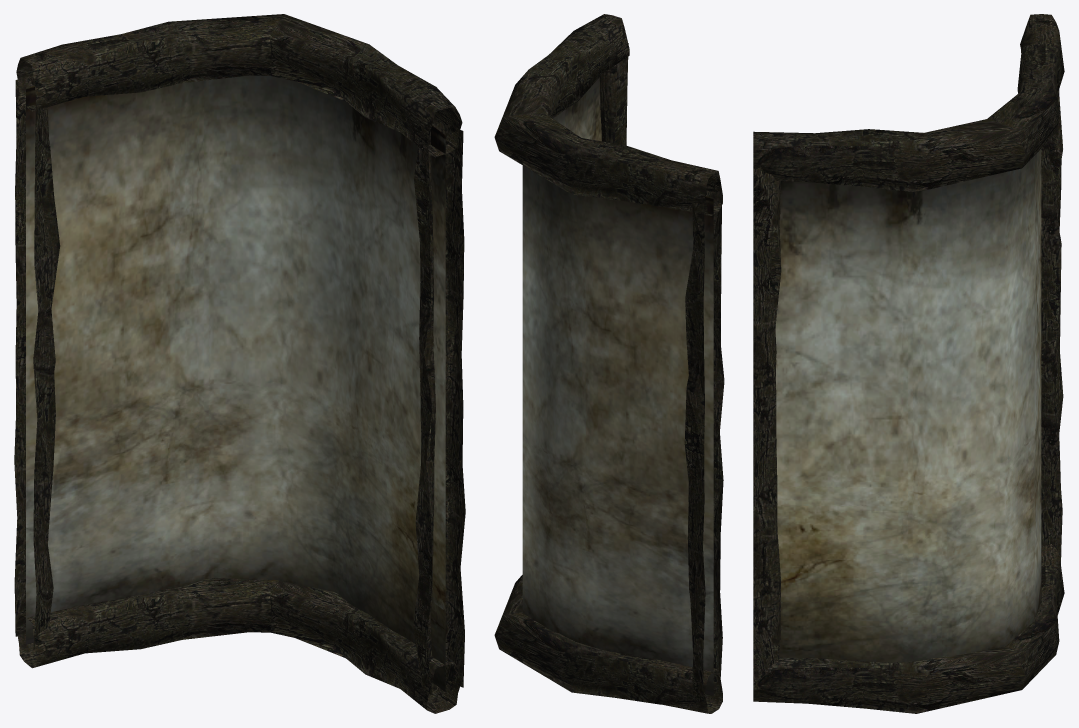
File: corner_concave_round_short_extension.dae
3 renders of one model, left to right at view 1: azimuth 30°, elevation 25°; view 2: azimuth 150°, elevation 25°; view 3: azimuth 270°, elevation 25°, orthographic. The views are drawn at different scales.
Visible parts, largest first — view 1: pPlane12, polySurface31, polySurface32, polySurface34, polySurface33; view 2: pPlane12, polySurface31, polySurface33, polySurface32, polySurface34; view 3: pPlane12, polySurface31, polySurface32, polySurface34, polySurface33.
Part boxes in pixels (x1,y1,x2,y2): pPlane12: (26, 75, 445, 691); polySurface31: (16, 14, 462, 157); polySurface32: (16, 578, 462, 713); polySurface34: (413, 122, 465, 695); polySurface33: (14, 77, 60, 649); pPlane12: (522, 77, 713, 695); polySurface31: (494, 14, 722, 215); polySurface33: (684, 190, 724, 702); polySurface32: (494, 575, 722, 713); polySurface34: (600, 43, 628, 145); pPlane12: (775, 149, 1041, 662); polySurface31: (753, 14, 1064, 192); polySurface32: (753, 544, 1064, 713); polySurface34: (753, 167, 781, 690); polySurface33: (1017, 55, 1063, 563).
Bounding box in the file's own units: 2.16 × 4.39 × 2.16.
